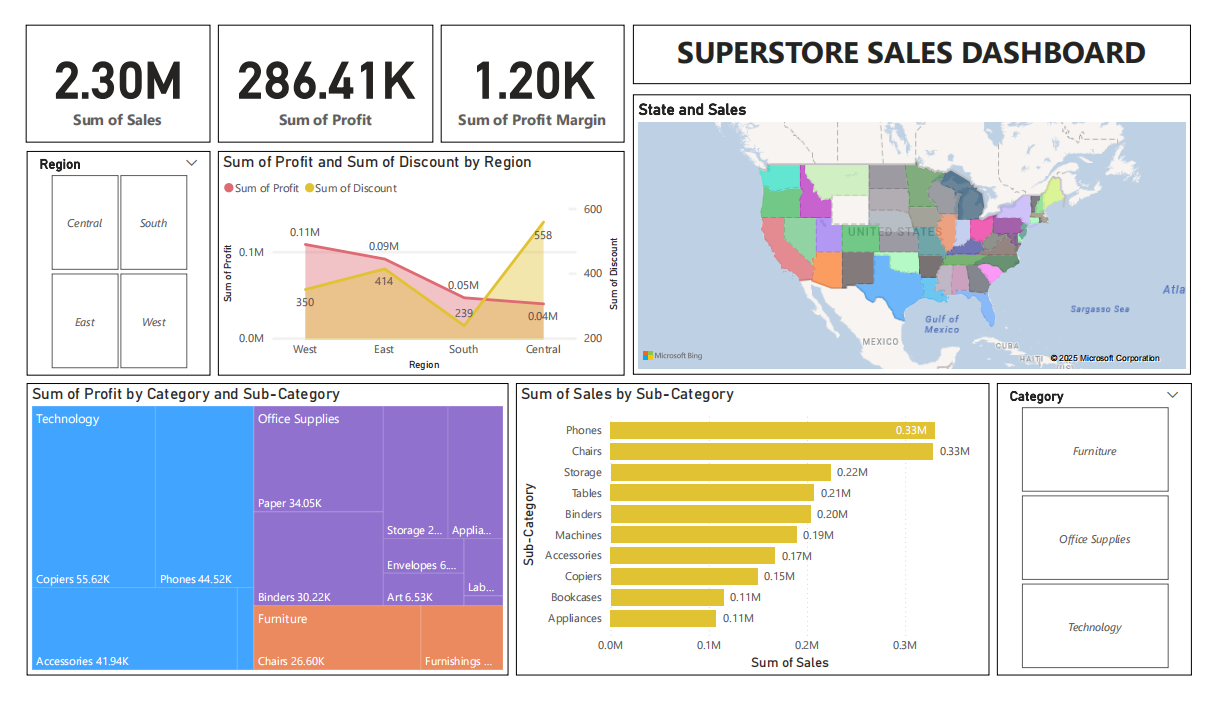

Layout of this report page (visuals, bound fields, positions):
{"tool":"powerbi","page":{"name":"Page 1","canvas":[1280,720],"ordinal":0},"visuals":[{"type":"card","fields":{"Values":["Sum(Sample - Superstore.Sales)"]},"box":[8.3,8.3,198.3,126.7],"z":0},{"type":"card","fields":{"Values":["Sum(Sample - Superstore.Profit)"]},"box":[215,8.3,231.7,126.7],"z":1000},{"type":"card","fields":{"Values":["Sum(Sample - Superstore.Profit Margin)"]},"box":[455,8.3,198.3,126.7],"z":2000},{"type":"treemap","fields":{"Values":["Sum(Sample - Superstore.Profit)"],"Group":["Sample - Superstore.Category"],"Details":["Sample - Superstore.Sub-Category"]},"box":[9.1,393.7,519.4,315],"z":3000},{"type":"lineChart","fields":{"Category":["Sample - Superstore.Region"],"Y":["Sum(Sample - Superstore.Profit)"],"Y2":["Sum(Sample - Superstore.Discount)"]},"box":[215,143.8,437.6,242.3],"z":4000},{"type":"barChart","fields":{"Y":["Sum(Sample - Superstore.Sales)"],"Category":["Sample - Superstore.Sub-Category"]},"box":[536,393.7,510.3,315],"z":5000},{"type":"slicer","fields":{"Values":["Sample - Superstore.Region"]},"box":[9.1,143.8,198.4,242.3],"z":6000},{"type":"slicer","fields":{"Values":["Sample - Superstore.Category"]},"box":[1053.9,393.7,210.5,315],"z":7000},{"type":"filledMap","fields":{"Category":["Sample - Superstore.State"],"Series":["Sample - Superstore.Sales"]},"box":[661.7,83.3,601.7,301.7],"z":8000},{"type":"textbox","box":[661.7,8.3,601.7,63.3],"z":9000}]}

Visuals, with their boxes in screenshot pixels (x1, y1, x2, y2), scaled from the page's 1280x720 canvas onto the 1223x702 screenshot:
card - Sum(Sample - Superstore.Sales): (8, 8, 197, 132)
card - Sum(Sample - Superstore.Profit): (205, 8, 427, 132)
card - Sum(Sample - Superstore.Profit Margin): (435, 8, 624, 132)
treemap - Sum(Sample - Superstore.Profit) x Sample - Superstore.Category: (9, 384, 505, 691)
lineChart - Sample - Superstore.Region x Sum(Sample - Superstore.Profit): (205, 140, 624, 376)
barChart - Sum(Sample - Superstore.Sales) x Sample - Superstore.Sub-Category: (512, 384, 1000, 691)
slicer - Sample - Superstore.Region: (9, 140, 198, 376)
slicer - Sample - Superstore.Category: (1007, 384, 1208, 691)
filledMap - Sample - Superstore.State x Sample - Superstore.Sales: (632, 81, 1207, 375)
textbox: (632, 8, 1207, 70)
